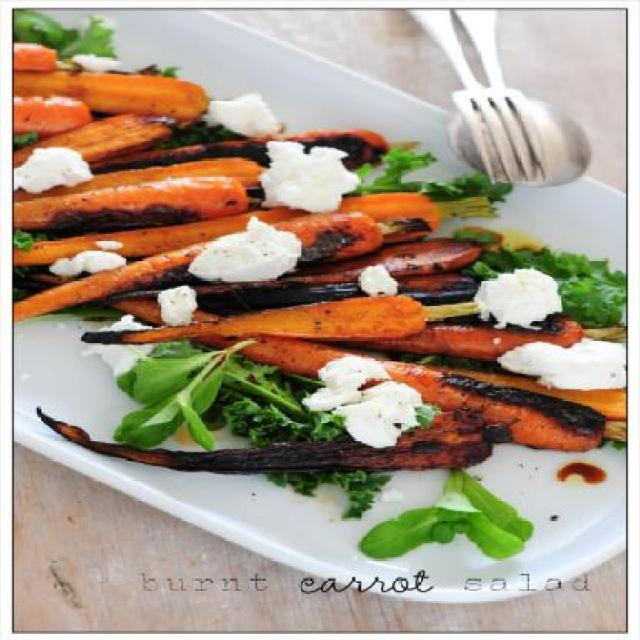Cheese: (492, 330, 632, 388), (332, 376, 440, 450), (183, 211, 302, 277), (458, 263, 574, 326), (259, 134, 359, 202), (294, 352, 392, 416), (88, 317, 167, 380), (13, 142, 99, 195), (49, 240, 134, 292), (194, 93, 286, 141), (141, 284, 201, 330), (350, 258, 404, 300)
